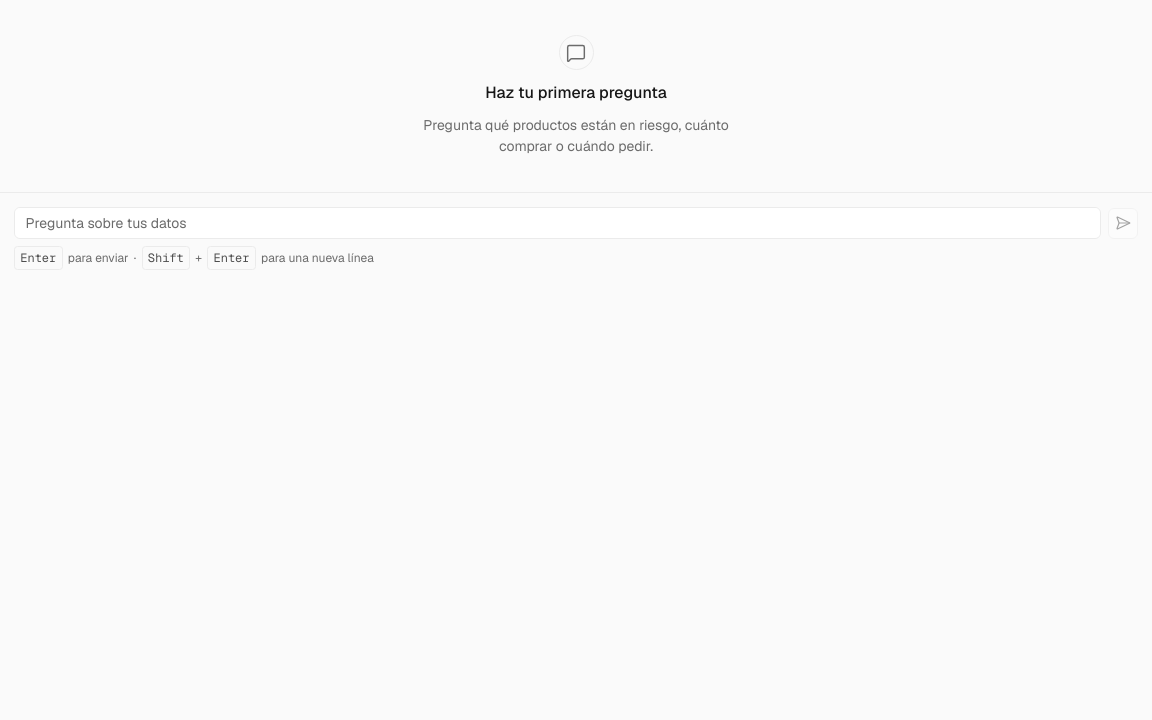
Test case: sending › stops generating: keeps the partial text, marks it and offers Retry
Type "hola" into the text box named "Escribe tu pregunta" at (557, 223), box x1=14 y1=207 x2=1100 y2=239
Then press Enter
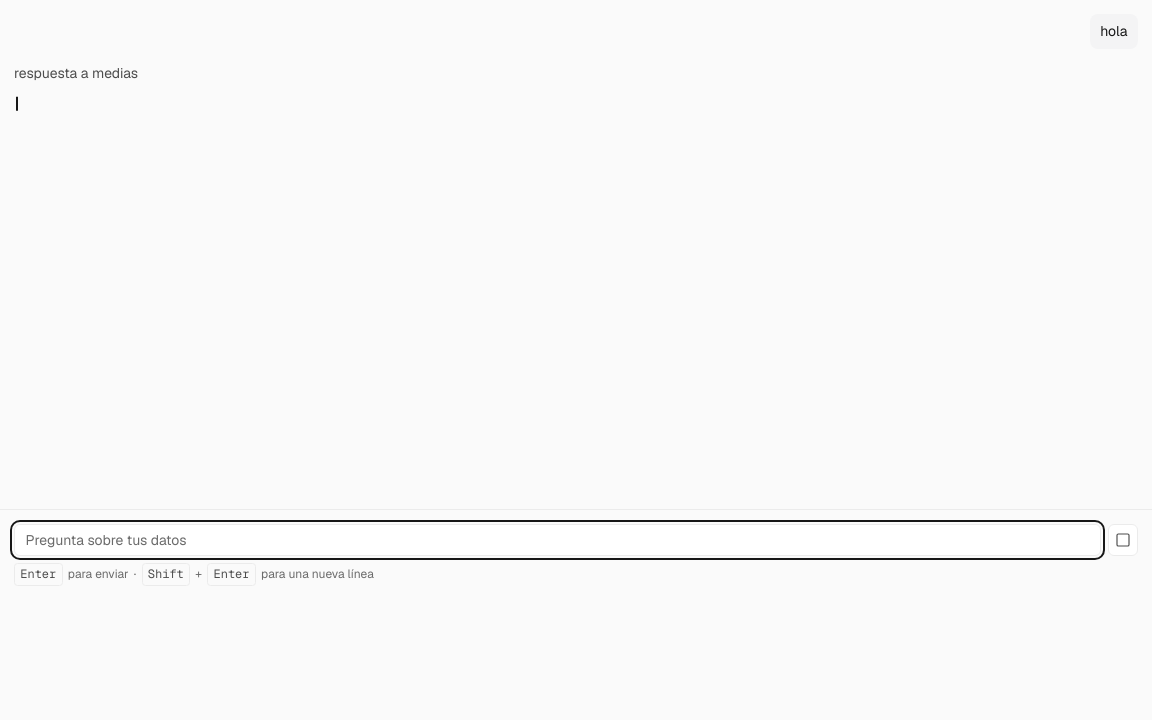
Check: the text "respuesta a medias" is shown, box x1=14 y1=63 x2=138 y2=84
Click the button named "Detener" at (1123, 540), box x1=1108 y1=524 x2=1138 y2=556
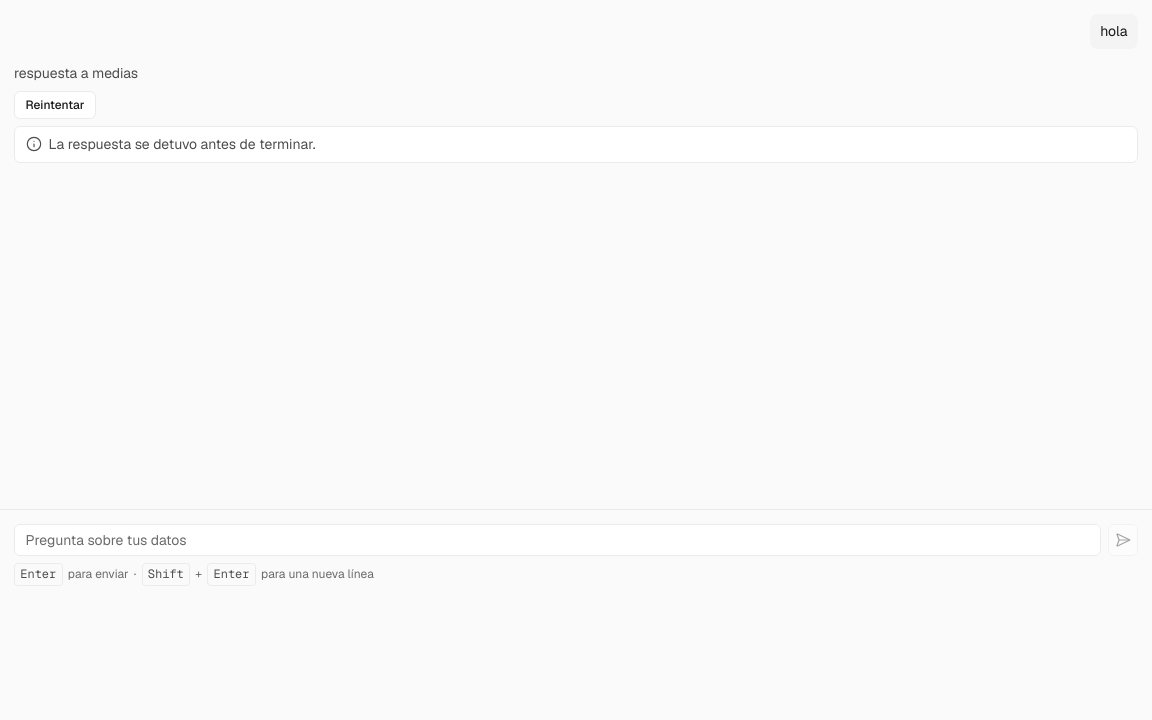
Check: the text "La respuesta se detuvo antes de terminar." is shown, box x1=48 y1=134 x2=316 y2=155
Check: the button "Reintentar" is shown, box x1=14 y1=91 x2=96 y2=119
